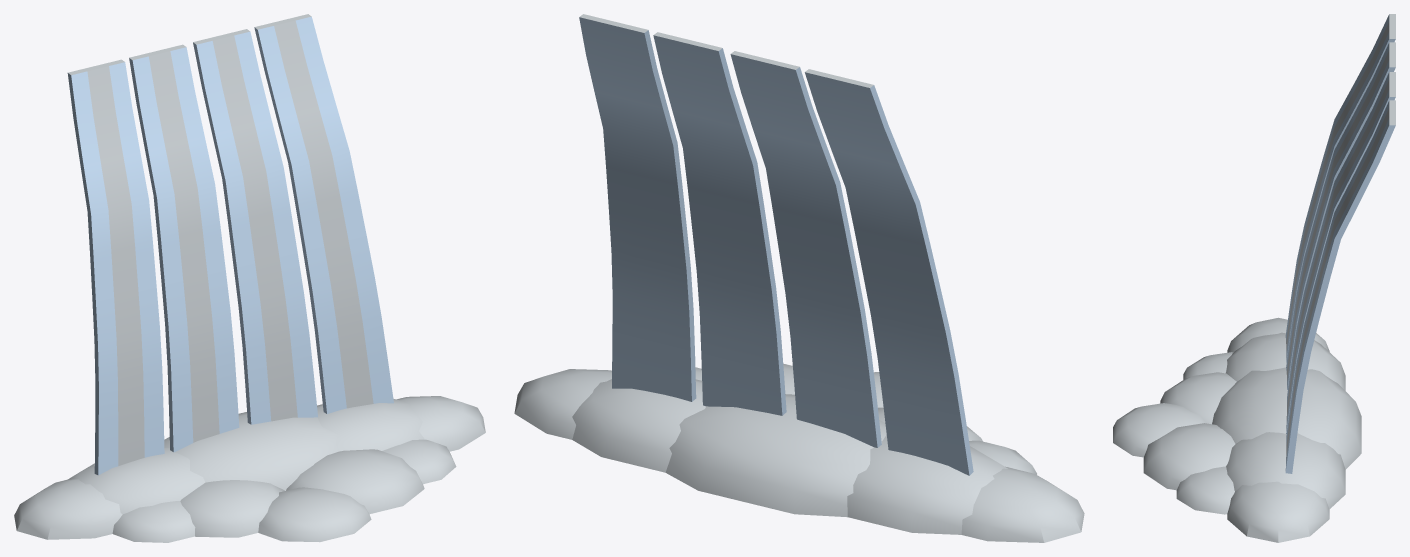
Rendered from Kit_Waterfall.glb.
3 views of the same model, side by side, from view 1: azimuth 30°, elevation 25°; view 2: azimuth 150°, elevation 25°; view 3: azimuth 270°, elevation 25° (orthographic). The views are drawn at different scales.
Parts seen in each view (by area): view 1: Kit_Waterfall; view 2: Kit_Waterfall; view 3: Kit_Waterfall.
Part boxes in pixels (x1=…): Kit_Waterfall: x1=14, y1=14, x2=485, y2=542; Kit_Waterfall: x1=514, y1=14, x2=1084, y2=542; Kit_Waterfall: x1=1113, y1=14, x2=1395, y2=542.
Size of the model in its own units: 152 by 120 by 84.22.
